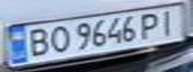4: (106, 16, 127, 45)
6: (90, 17, 112, 48), (121, 12, 142, 43)
9: (72, 20, 93, 52)
B: (21, 25, 54, 58)
I: (154, 7, 181, 36)
O: (45, 24, 72, 55)
P: (136, 10, 166, 39)
